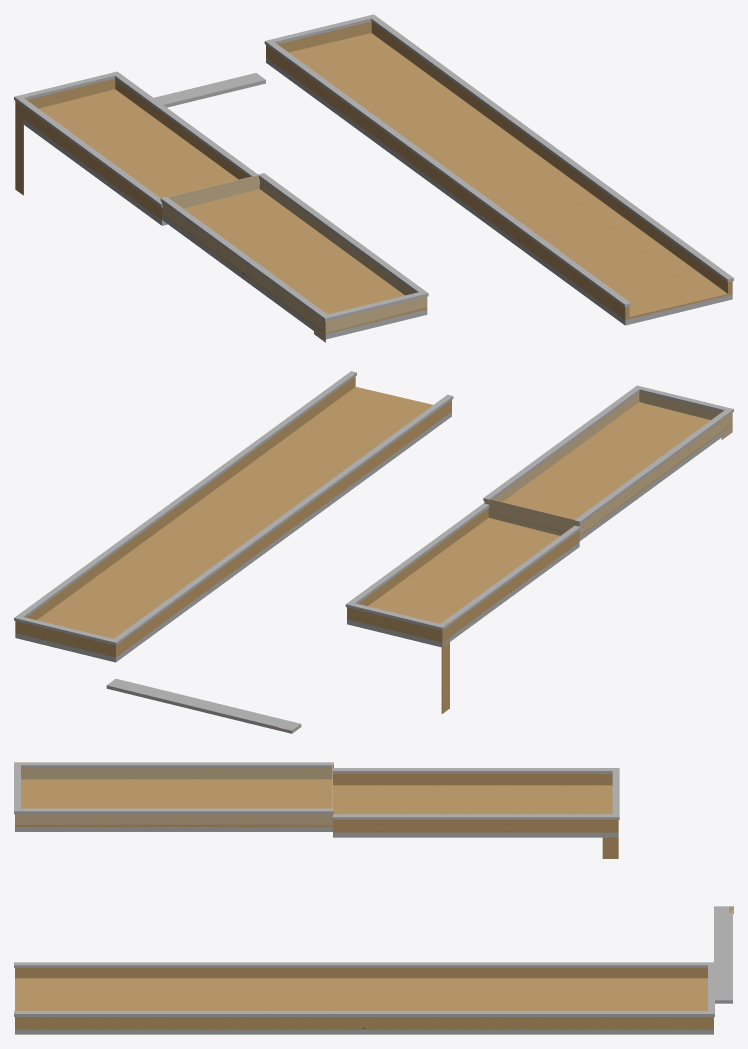
The model's file is roof-bundle-dyers-alley.glb.
3 renders of one model, top to bottom at view 1: azimuth 30°, elevation 25°; view 2: azimuth 150°, elevation 25°; view 3: azimuth 270°, elevation 25°, orthographic. The views are drawn at different scales.
Parts seen in each view (by area): view 1: bz06_faded_ochre-receive, ph_bz04_stone_trim_sandstone-cast, bz06_faded_ochre-cast, bz06_sand_plaster-cast; view 2: bz06_faded_ochre-receive, ph_bz04_stone_trim_sandstone-cast, bz06_faded_ochre-cast, bz06_sand_plaster-cast; view 3: bz06_faded_ochre-receive, ph_bz04_stone_trim_sandstone-cast, bz06_faded_ochre-cast, bz06_sand_plaster-cast.
Part boxes in pixels (bbox=[...]): bz06_faded_ochre-receive: bbox=[15, 33, 732, 334]; ph_bz04_stone_trim_sandstone-cast: bbox=[14, 14, 733, 339]; bz06_faded_ochre-cast: bbox=[15, 21, 732, 320]; bz06_sand_plaster-cast: bbox=[162, 173, 427, 342]; bz06_faded_ochre-receive: bbox=[26, 387, 732, 655]; ph_bz04_stone_trim_sandstone-cast: bbox=[14, 371, 733, 733]; bz06_faded_ochre-cast: bbox=[15, 376, 579, 713]; bz06_sand_plaster-cast: bbox=[484, 392, 732, 535]; bz06_faded_ochre-receive: bbox=[15, 779, 712, 1029]; ph_bz04_stone_trim_sandstone-cast: bbox=[14, 762, 732, 1034]; bz06_faded_ochre-cast: bbox=[15, 768, 713, 1029]; bz06_sand_plaster-cast: bbox=[15, 762, 332, 830].
Bounding box in the file's own units: 14.46 × 3.43 × 22.66.
5 materials, 4 textured.
